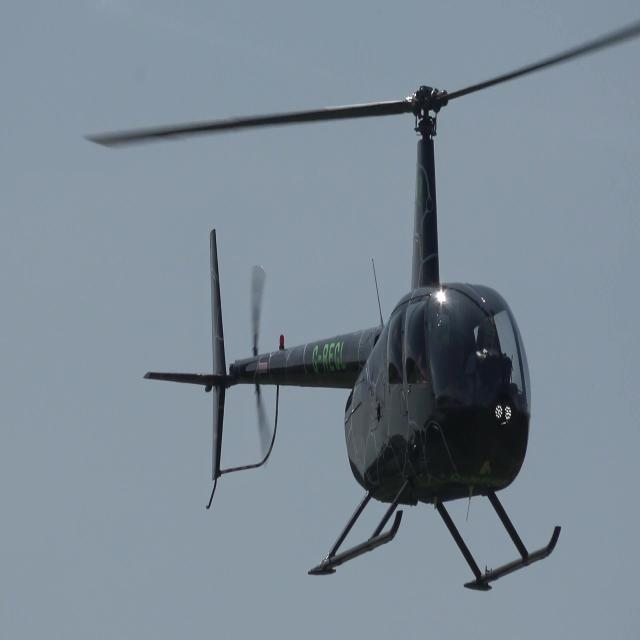CIV_HELO: (144, 83, 563, 595)
